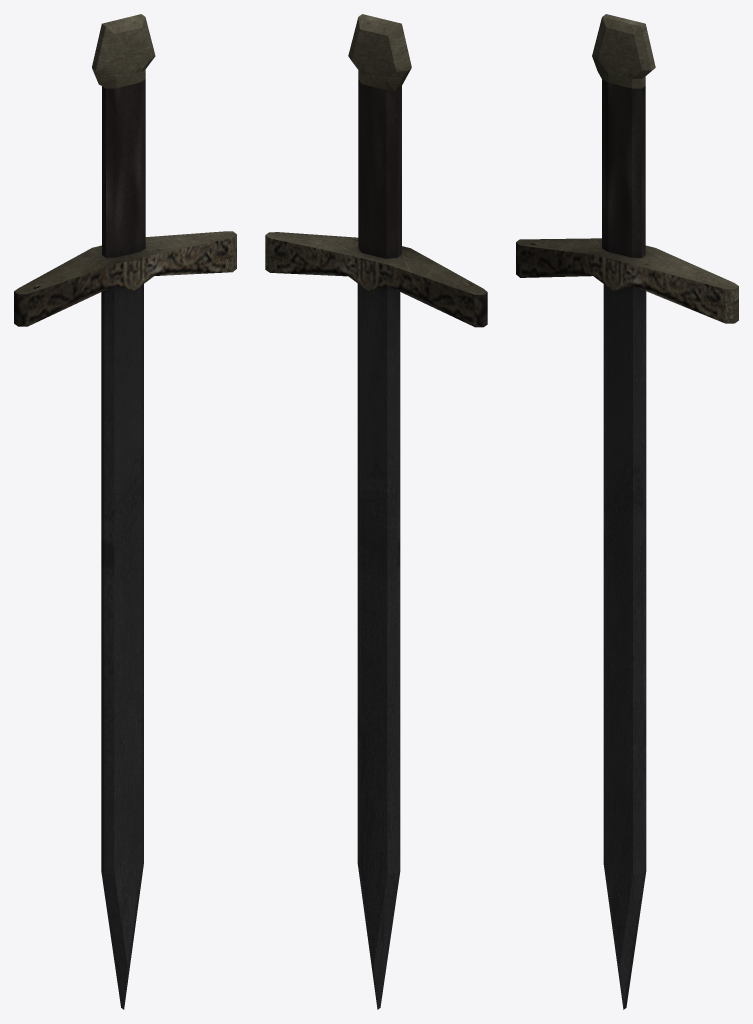
Rendered from sword.glb.
3 views of the same model, side by side, from view 1: azimuth 30°, elevation 25°; view 2: azimuth 150°, elevation 25°; view 3: azimuth 330°, elevation 25° (orthographic).
Parts seen in each view (by area): view 1: Plane; view 2: Plane; view 3: Plane.
Part boxes in pixels (x1,y1,x2,y2): Plane: (14,14,236,1009); Plane: (265,14,487,1009); Plane: (516,14,738,1009).
Size of the model in its own units: 1.3 by 5.6 by 0.2322.
1 material, 1 textured.
